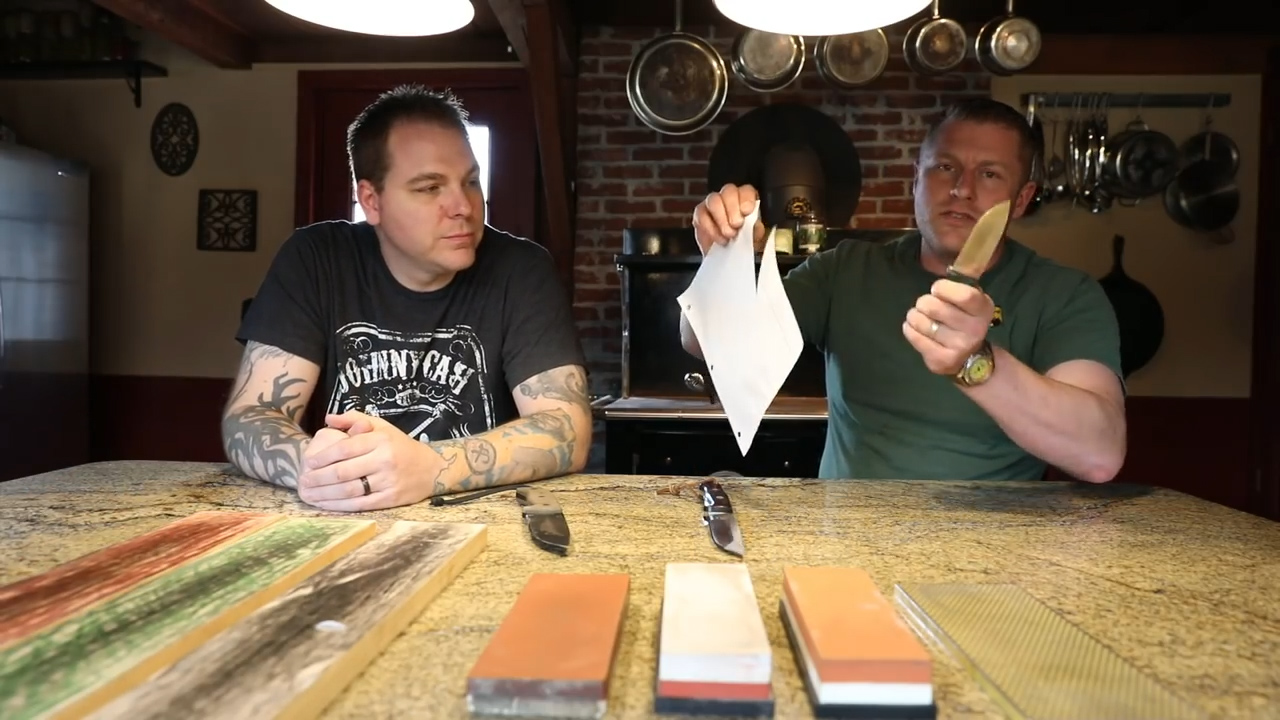knife: (896, 187, 1030, 340)
